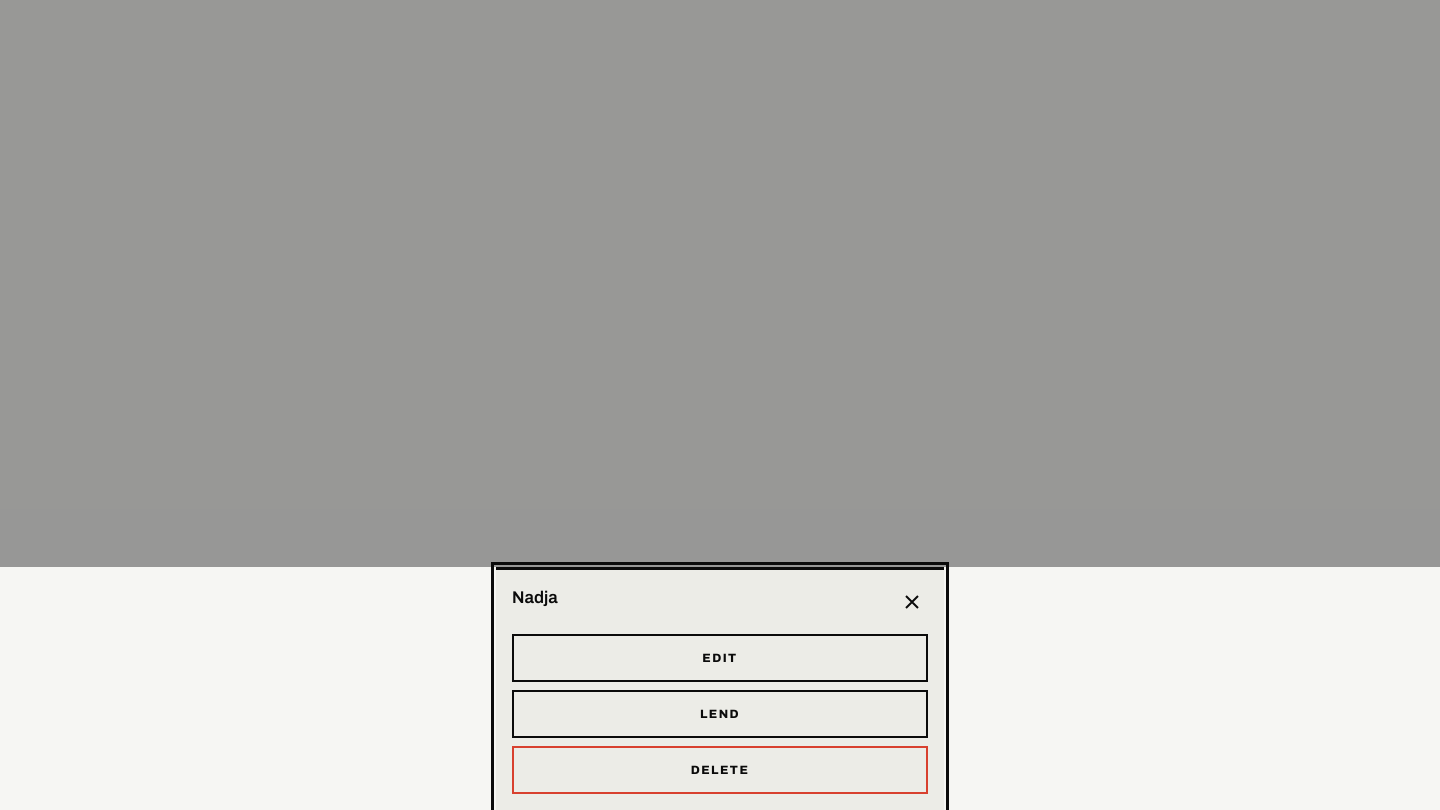
it: ItemActionsSheet › confirms deletion in place and says the item is gone for good
Click the button "Delete". click: (720, 770)
box: [512, 746, 928, 794]
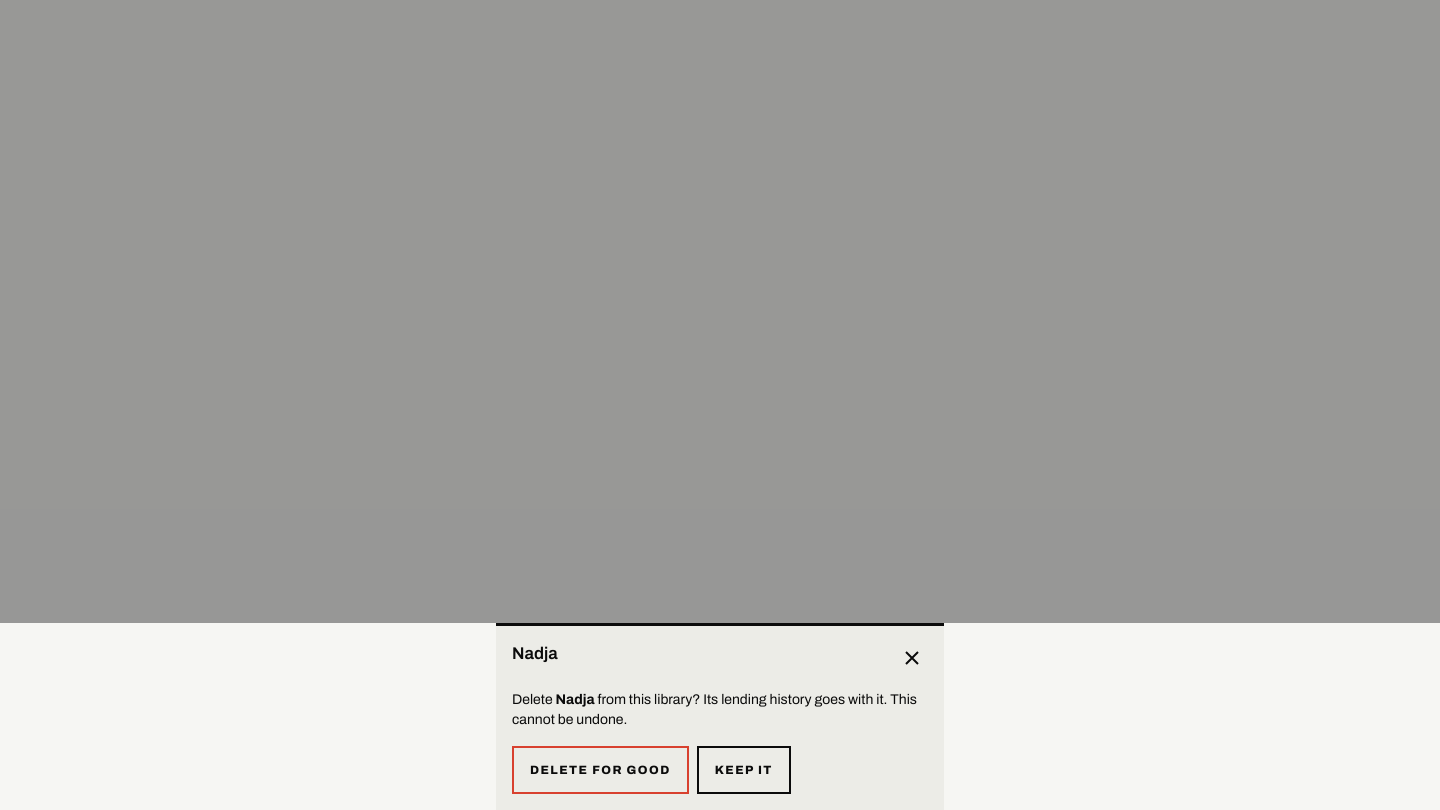
Result: the text "cannot be undone" is shown at [512, 692, 917, 727]
